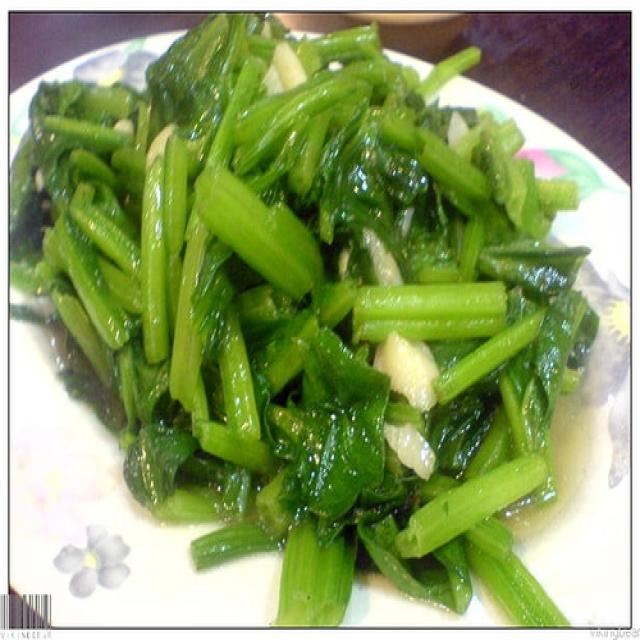蔬菜料理: (0, 0, 627, 640)
